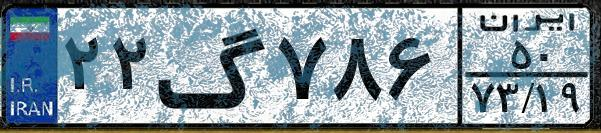0: (537, 27, 568, 80)
1: (535, 70, 560, 125)
2: (57, 26, 110, 100), (110, 28, 156, 98)
3: (495, 70, 520, 125)
5: (508, 27, 537, 80)
6: (385, 28, 445, 110)
7: (270, 28, 330, 110), (470, 70, 495, 125)
8: (330, 28, 385, 110)
9: (560, 70, 590, 125)
گ: (156, 12, 270, 120)
